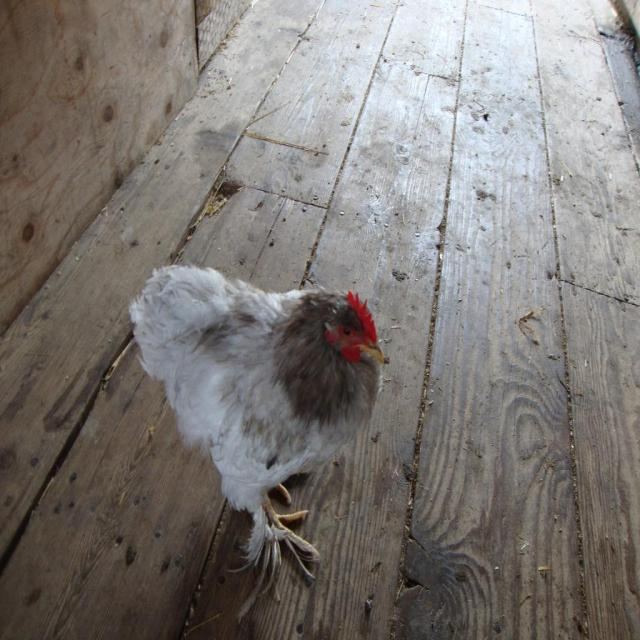Chicken: (123, 261, 384, 573)
